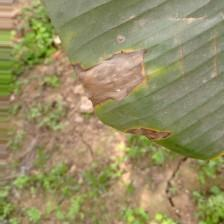cordana: (42, 0, 224, 161)
